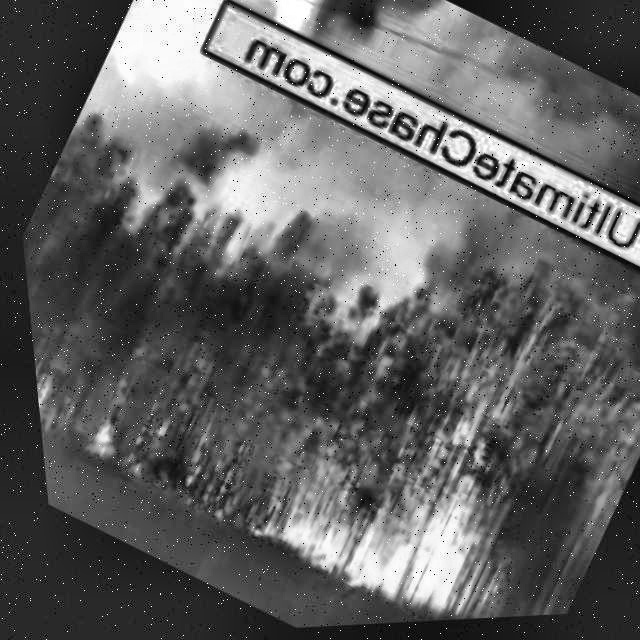Fire: (238, 399, 517, 632), (27, 352, 58, 428), (76, 417, 118, 463)
